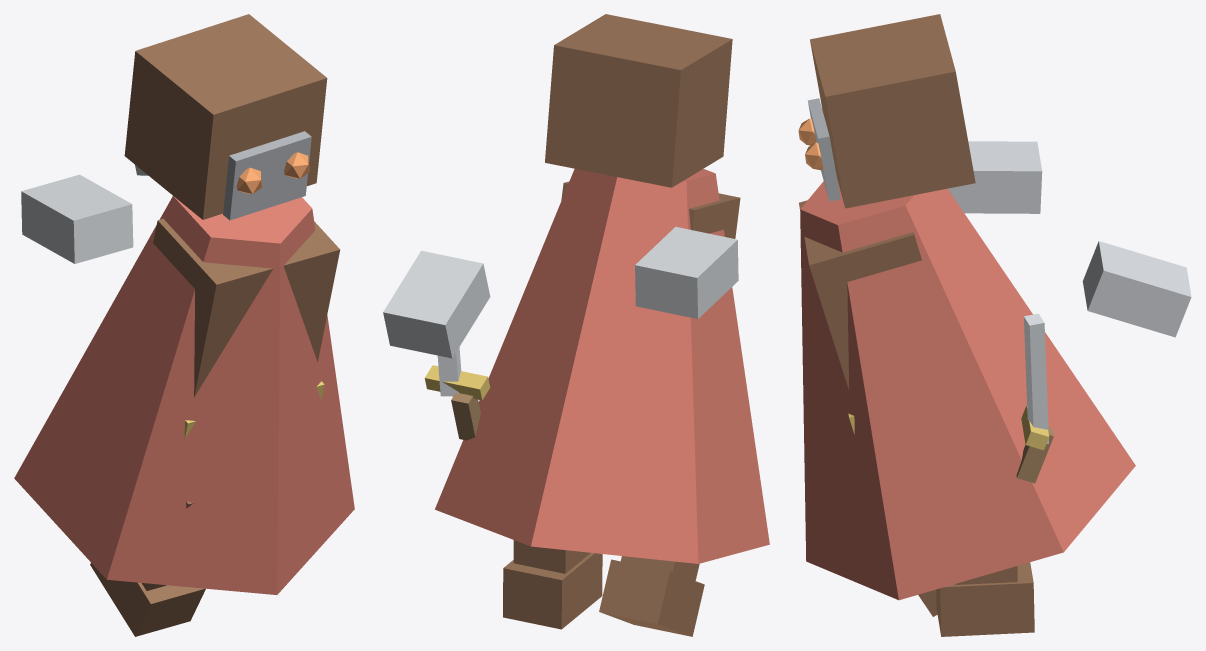
Rendered from npcpose_raider_walk_05.glb.
3 renders of one model, left to right at view 1: azimuth 30°, elevation 25°; view 2: azimuth 150°, elevation 25°; view 3: azimuth 270°, elevation 25°, orthographic.
Visible parts, largest first — view 1: npcpose; view 2: npcpose; view 3: npcpose.
Boxes of the visible parts, <box> form: npcpose: <box>14,14,354,636</box>; npcpose: <box>383,14,769,636</box>; npcpose: <box>798,14,1191,636</box>.
Bounding box in the file's own units: 0.8161 × 1.64 × 1.01.
